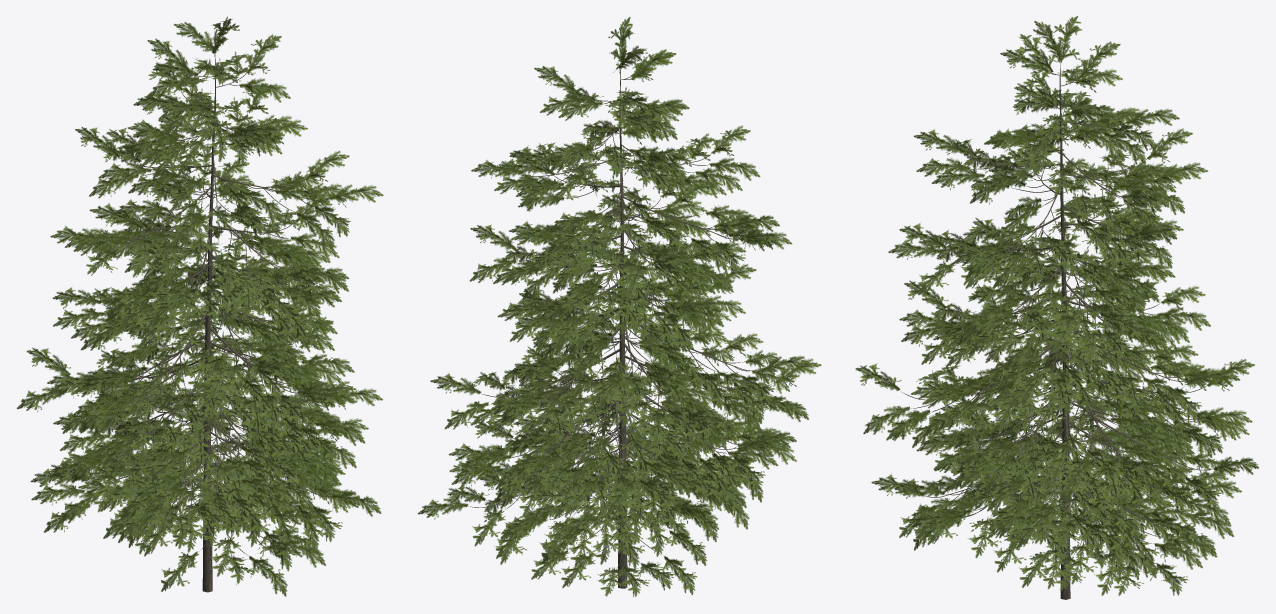
File: planet_tree.glb
3 renders of one model, left to right at view 1: azimuth 30°, elevation 25°; view 2: azimuth 150°, elevation 25°; view 3: azimuth 270°, elevation 25°, orthographic. The views are drawn at different scales.
Parts seen in each view (by area): view 1: bq_Tree_Picea-abies_B_spring-summer-autumn; view 2: bq_Tree_Picea-abies_B_spring-summer-autumn; view 3: bq_Tree_Picea-abies_B_spring-summer-autumn.
Boxes of the visible parts, box(x1,y1,x2,y2) form: bq_Tree_Picea-abies_B_spring-summer-autumn: box(16, 16, 383, 596); bq_Tree_Picea-abies_B_spring-summer-autumn: box(417, 17, 821, 597); bq_Tree_Picea-abies_B_spring-summer-autumn: box(855, 16, 1258, 599).
Size of the model in its own units: 2.39 by 3.99 by 2.54.
2 materials, 2 textured.
